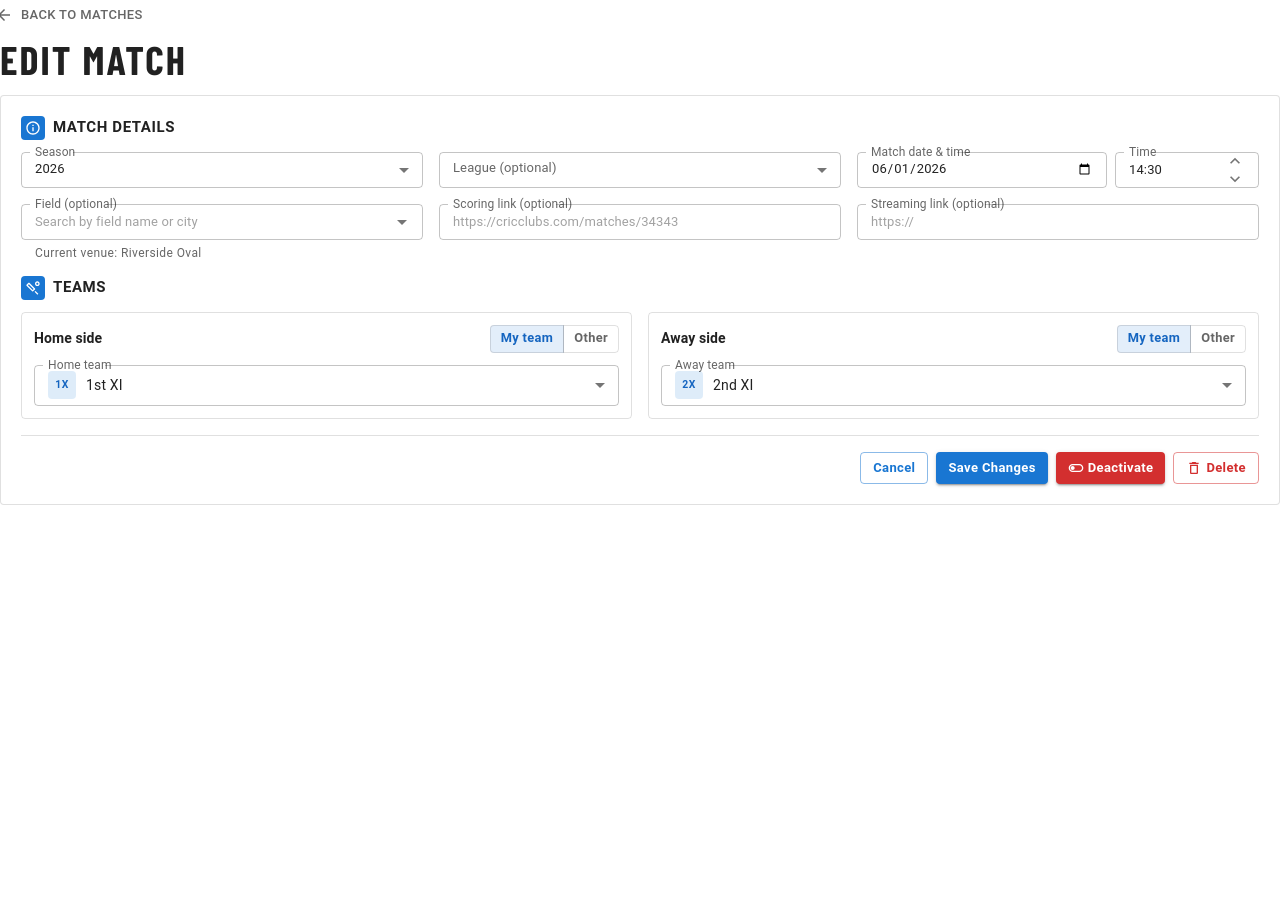
MatchFormPage › Delete (109) › Cancel closes the dialog without deleting
Click the button "Delete": x=1216, y=468 [1173,452,1259,484]
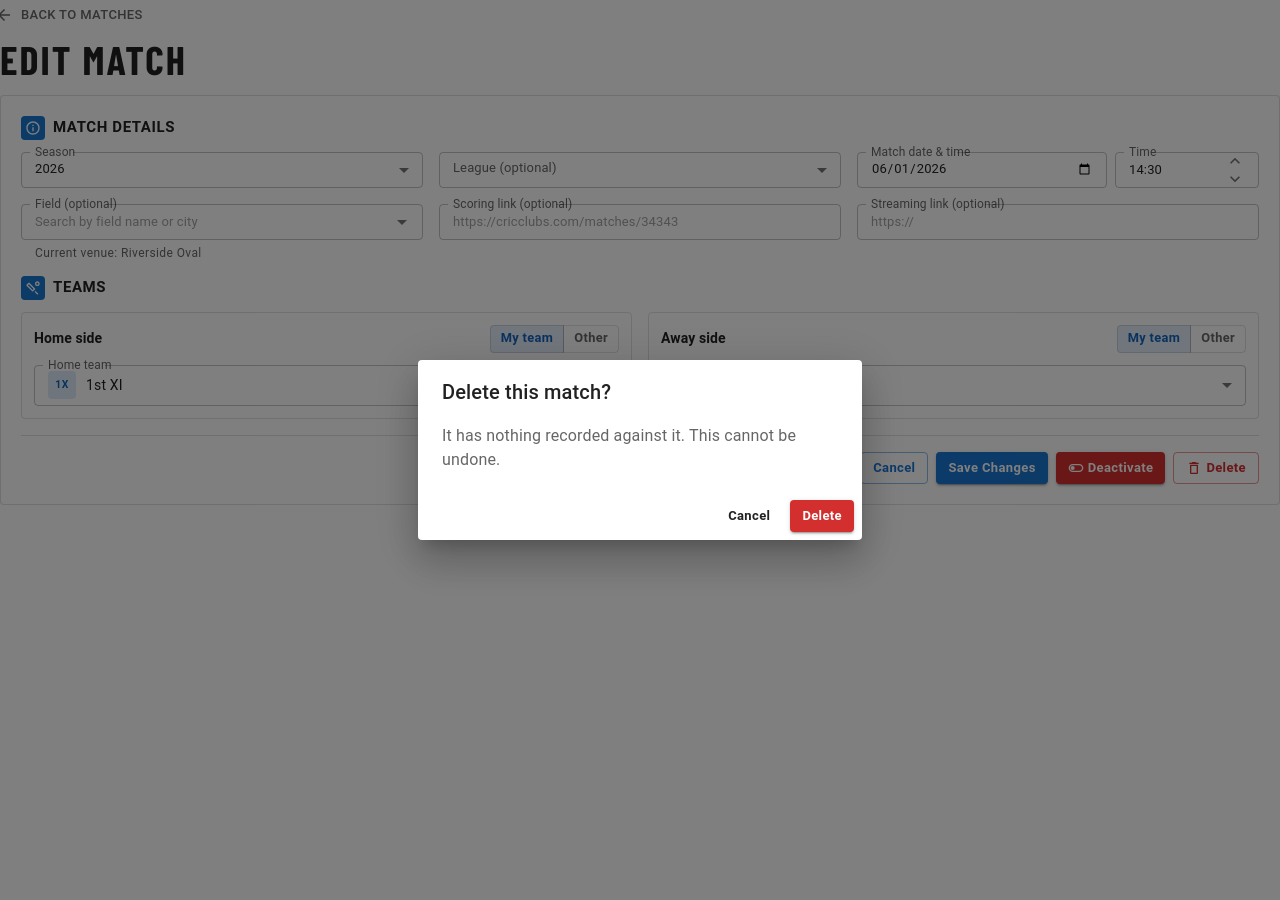
Click the button "Cancel": x=749, y=516 [716,500,782,532]
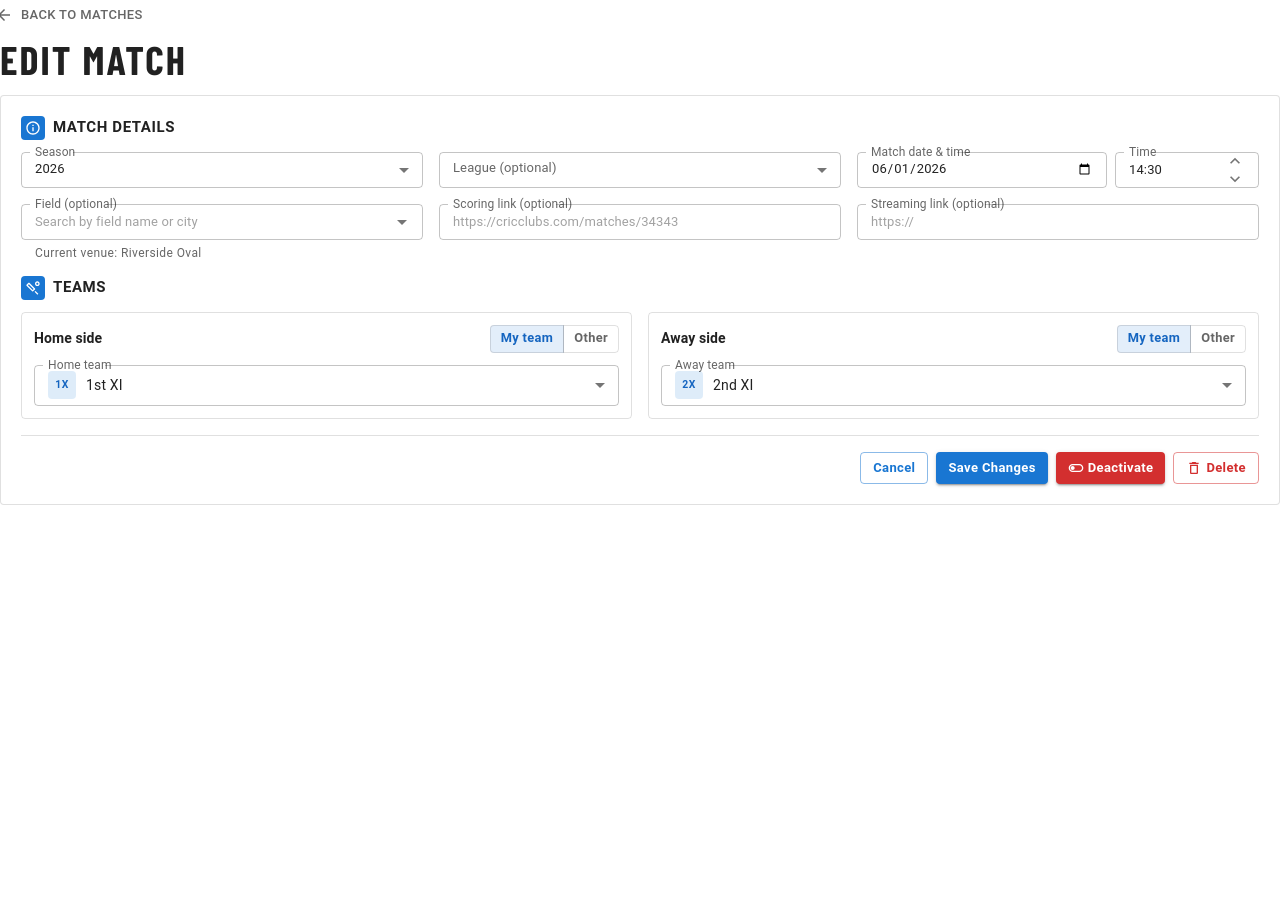
Expected: the dialog is gone
